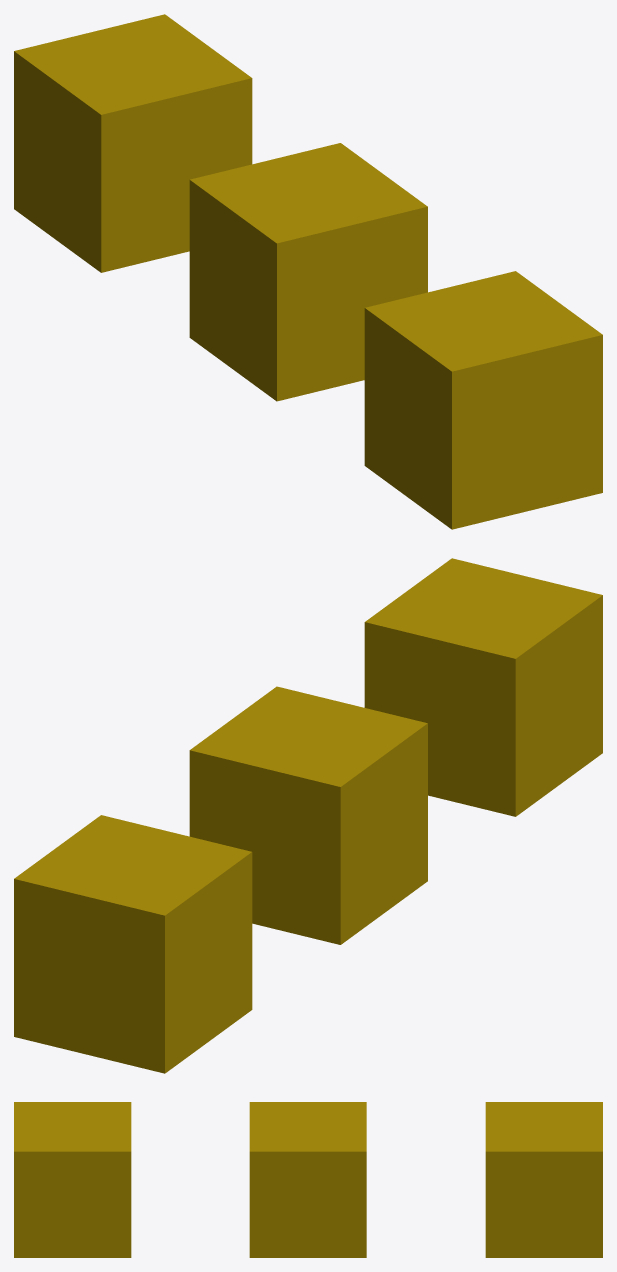
The model's file is Cubezz.fbx.
3 views of the same model, one above another, from view 1: azimuth 30°, elevation 25°; view 2: azimuth 150°, elevation 25°; view 3: azimuth 270°, elevation 25° (orthographic). The views are drawn at different scales.
Parts seen in each view (by area): view 1: Cube.002, Cube.001, Cube; view 2: Cube.001, Cube, Cube.002; view 3: Cube, Cube.001, Cube.002.
Boxes of the visible parts, x1,y1,x2,y2 form: Cube.002: [364, 271, 602, 529]; Cube.001: [14, 14, 252, 272]; Cube: [189, 143, 427, 401]; Cube.001: [14, 815, 252, 1073]; Cube: [189, 686, 427, 944]; Cube.002: [364, 558, 602, 816]; Cube: [249, 1102, 366, 1257]; Cube.001: [485, 1102, 602, 1257]; Cube.002: [14, 1102, 131, 1257].
Bounding box in the file's own units: 200 × 1005 × 200.
